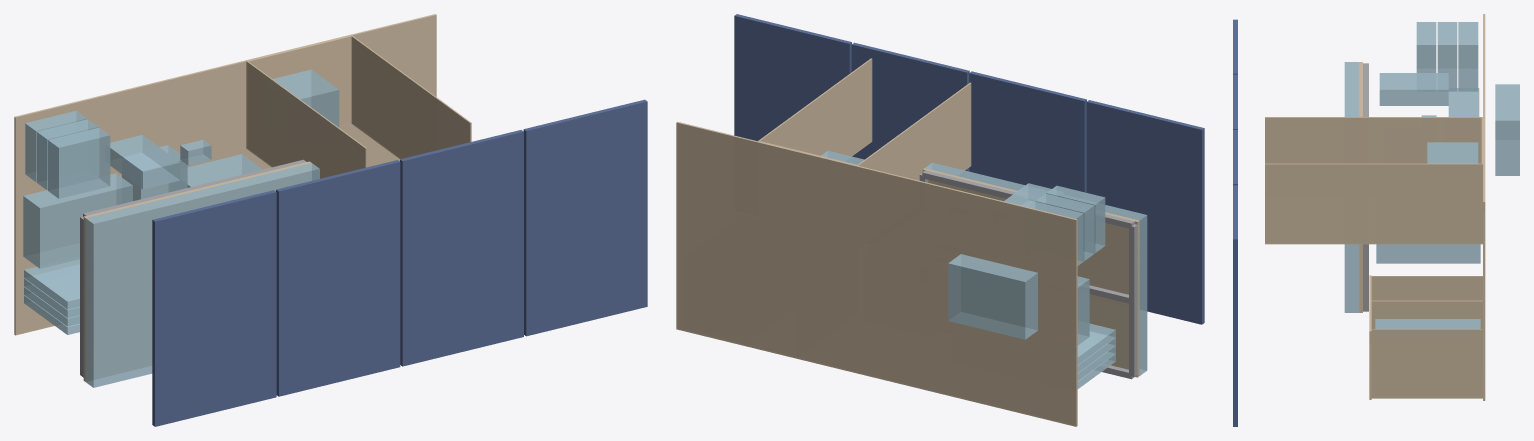
Rendered from A_fixa.glb.
3 views of the same model, side by side, from view 1: azimuth 30°, elevation 25°; view 2: azimuth 150°, elevation 25°; view 3: azimuth 270°, elevation 25° (orthographic). The views are drawn at different scales.
Visible parts, largest first — view 1: FVfixo__27_MAXEON_1, FVfixo__28_MAXEON_2, FVfixo__30_MAXEON_4, FVfixo__29_MAXEON_3, madeira__18_piso, equipamento__17_cama_colchao, madeira__21_parede_banho2, madeira__20_parede_banho, equipamento__6_tanque_limpa, equipamento__14_US5000_3, madeira__22_base_banho, equipamento__5_inversor (+10 smaller); view 2: madeira__18_piso, FVfixo__27_MAXEON_1, FVfixo__28_MAXEON_2, FVfixo__30_MAXEON_4, FVfixo__29_MAXEON_3, equipamento__7_tanque_cinza, madeira__21_parede_banho2, madeira__20_parede_banho, madeira__26_estrado, equipamento__17_cama_colchao, aco__34_travessa_cama_0, equipamento__13_US5000_2 (+6 smaller); view 3: madeira__21_parede_banho2, madeira__20_parede_banho, madeira__25_divisoria_3.57, madeira__23_divisoria_2.54, equipamento__5_inversor, equipamento__7_tanque_cinza, madeira__24_divisoria_3.02, equipamento__15_lava_seca, equipamento__17_cama_colchao, equipamento__12_US5000_1, equipamento__13_US5000_2, FVfixo__30_MAXEON_4 (+12 smaller).
Boxes of the visible parts, x1,y1,x2,y2 form: FVfixo__27_MAXEON_1: (152,190,276,426); FVfixo__28_MAXEON_2: (276,160,400,396); FVfixo__30_MAXEON_4: (523,99,647,336); FVfixo__29_MAXEON_3: (400,130,523,366); madeira__18_piso: (14,14,436,335); equipamento__17_cama_colchao: (85,163,319,387); madeira__21_parede_banho2: (351,35,471,159); madeira__20_parede_banho: (246,61,366,178); equipamento__6_tanque_limpa: (23,173,132,268); equipamento__14_US5000_3: (48,127,110,198); madeira__22_base_banho: (248,36,351,126); equipamento__5_inversor: (110,135,180,189); madeira__18_piso: (676,121,1077,426); FVfixo__27_MAXEON_1: (1086,100,1204,324); FVfixo__28_MAXEON_2: (969,71,1086,192); FVfixo__30_MAXEON_4: (734,14,851,141); FVfixo__29_MAXEON_3: (851,42,969,171); equipamento__7_tanque_cinza: (948,254,1037,339); madeira__21_parede_banho2: (758,58,872,156); madeira__20_parede_banho: (857,82,971,180); madeira__26_estrado: (922,168,1139,377); equipamento__17_cama_colchao: (925,162,1147,375); aco__34_travessa_cama_0: (1129,224,1137,376); equipamento__13_US5000_2: (1035,193,1094,261); madeira__21_parede_banho2: (1265,163,1482,244); madeira__20_parede_banho: (1265,117,1482,163); madeira__25_divisoria_3.57: (1371,329,1482,398); madeira__23_divisoria_2.54: (1371,276,1482,300); equipamento__5_inversor: (1379,73,1448,105); equipamento__7_tanque_cinza: (1495,84,1519,175); madeira__24_divisoria_3.02: (1371,300,1482,329); equipamento__15_lava_seca: (1376,244,1480,263); equipamento__17_cama_colchao: (1344,62,1359,312); equipamento__12_US5000_1: (1458,22,1478,91); equipamento__13_US5000_2: (1437,22,1457,91); FVfixo__30_MAXEON_4: (1233,185,1237,426).
Size of the model in its own units: 4.27 by 1.79 by 2.34.
